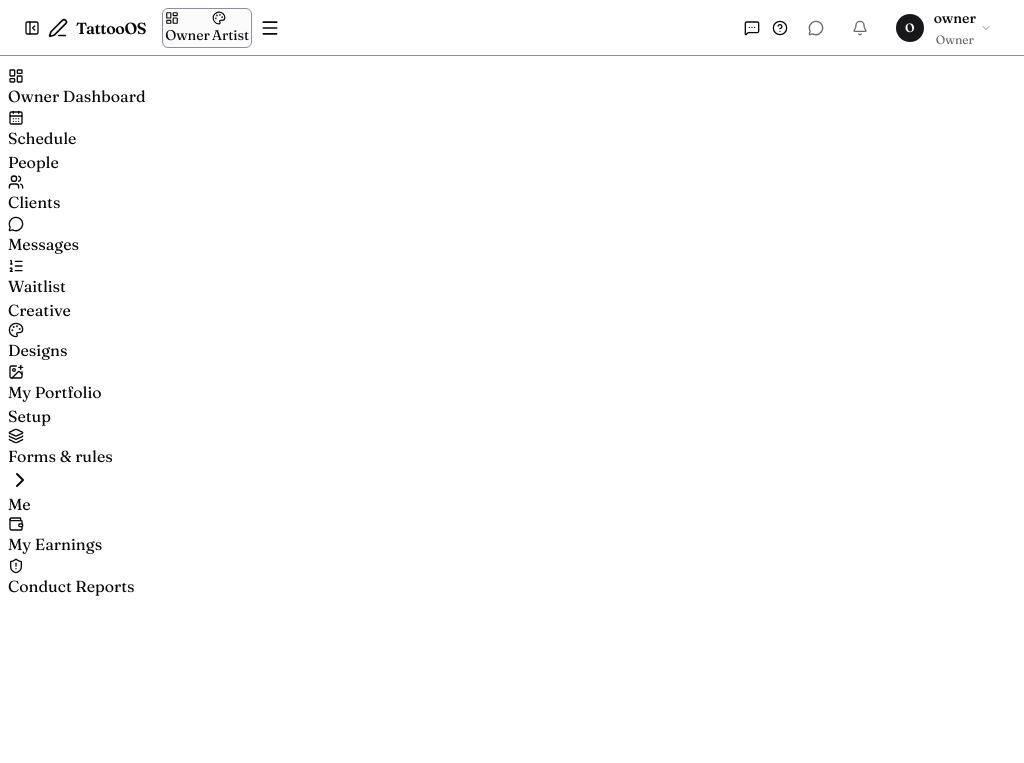
Scenario: OwnerLayout › clicking 'Owner Dashboard' from artist mode returns to the owner nav
Click the link "Owner Dashboard".
click(77, 88)  # box [8,68,146,108]
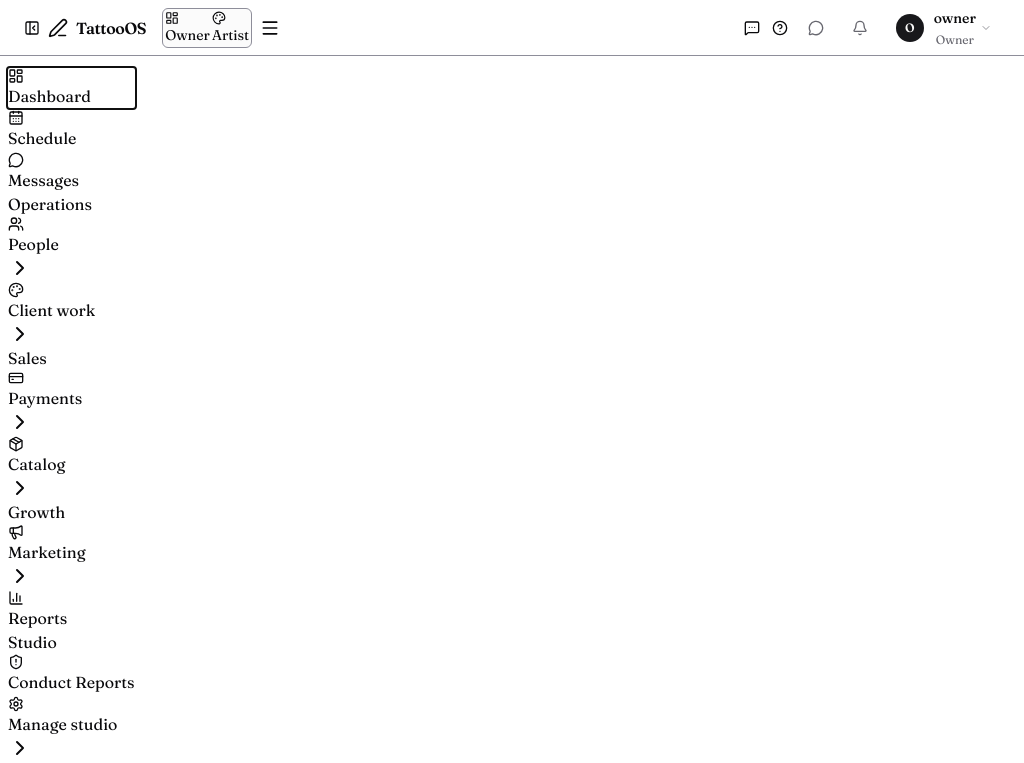
Click the button "Manage studio".
click(63, 728)  # box [8,696,117,760]
(page scrolled)
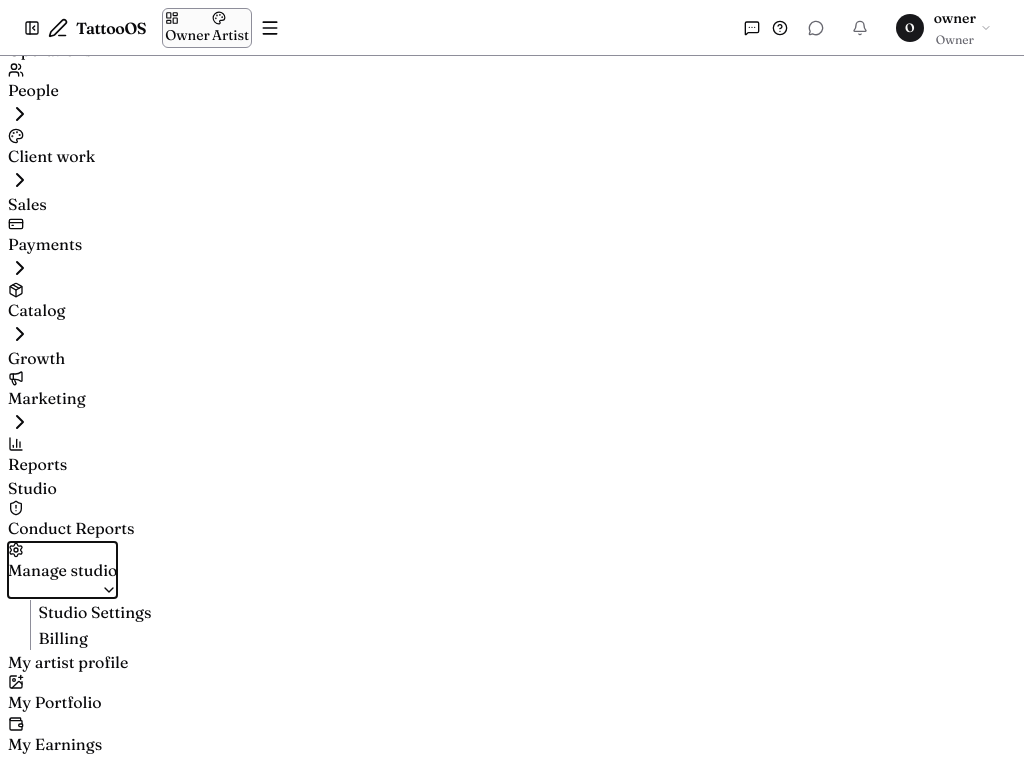
expect the link "Billing" is shown: met, box [39,628,88,648]
